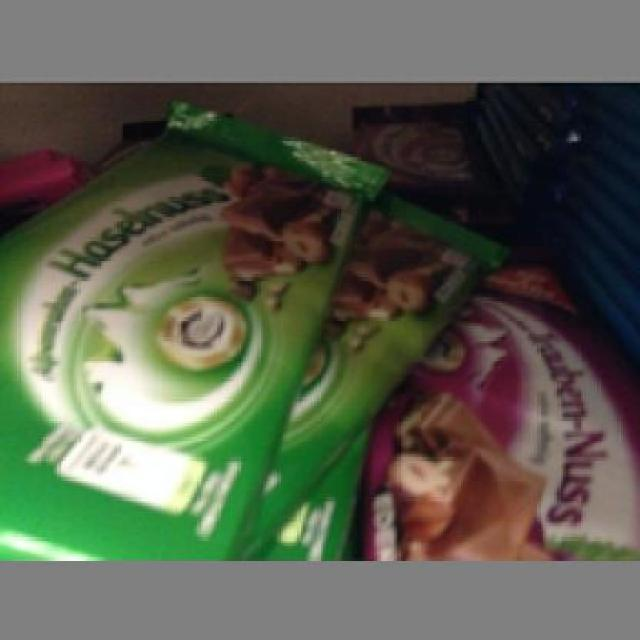Chocolate: (3, 125, 337, 558), (363, 263, 637, 560)
